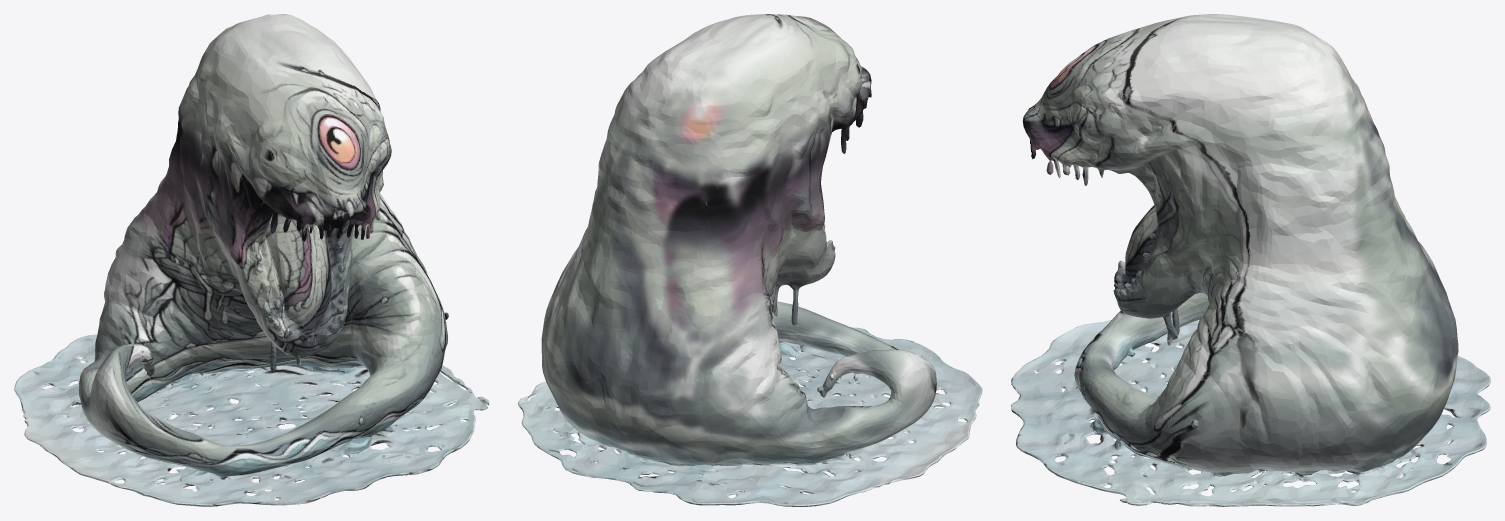
Rendered from drain_lamprey_local.glb.
3 views of the same model, side by side, from view 1: azimuth 30°, elevation 25°; view 2: azimuth 150°, elevation 25°; view 3: azimuth 270°, elevation 25° (orthographic). The views are drawn at different scales.
Parts seen in each view (by area): view 1: geometry_0; view 2: geometry_0; view 3: geometry_0.
Boxes of the visible parts, left/top/right/bottom form: geometry_0: left=14, top=14, right=489, bottom=506; geometry_0: left=518, top=14, right=982, bottom=506; geometry_0: left=1011, top=14, right=1490, bottom=506.
Size of the model in its own units: 2.16 by 2 by 2.17.
1 material, 1 textured.
